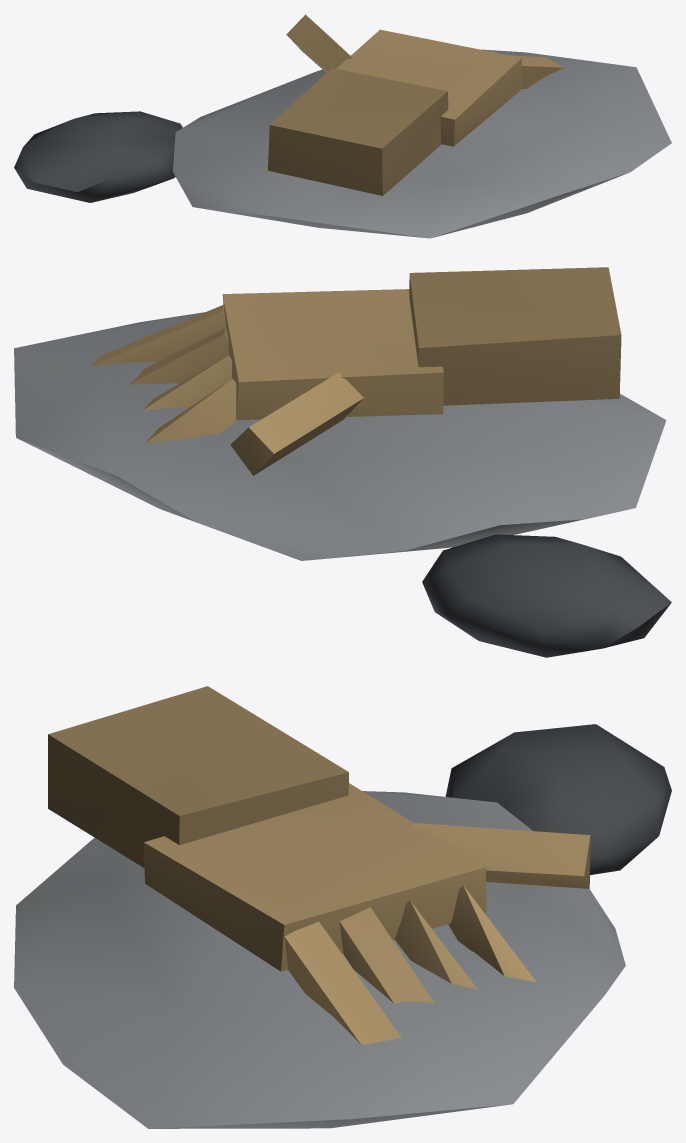
File: lost_glove_a_lod1.glb
3 views of the same model, one above another, from view 1: azimuth 30°, elevation 25°; view 2: azimuth 150°, elevation 25°; view 3: azimuth 270°, elevation 25° (orthographic). The views are drawn at different scales.
Visible parts, largest first — view 1: Surface.001; view 2: Surface.001; view 3: Surface.001.
Boxes of the visible parts, bbox=[...] form: Surface.001: bbox=[14, 14, 671, 238]; Surface.001: bbox=[14, 267, 671, 657]; Surface.001: bbox=[14, 686, 671, 1128].
Bounding box in the file's own units: 0.8142 × 0.1859 × 0.5427.
